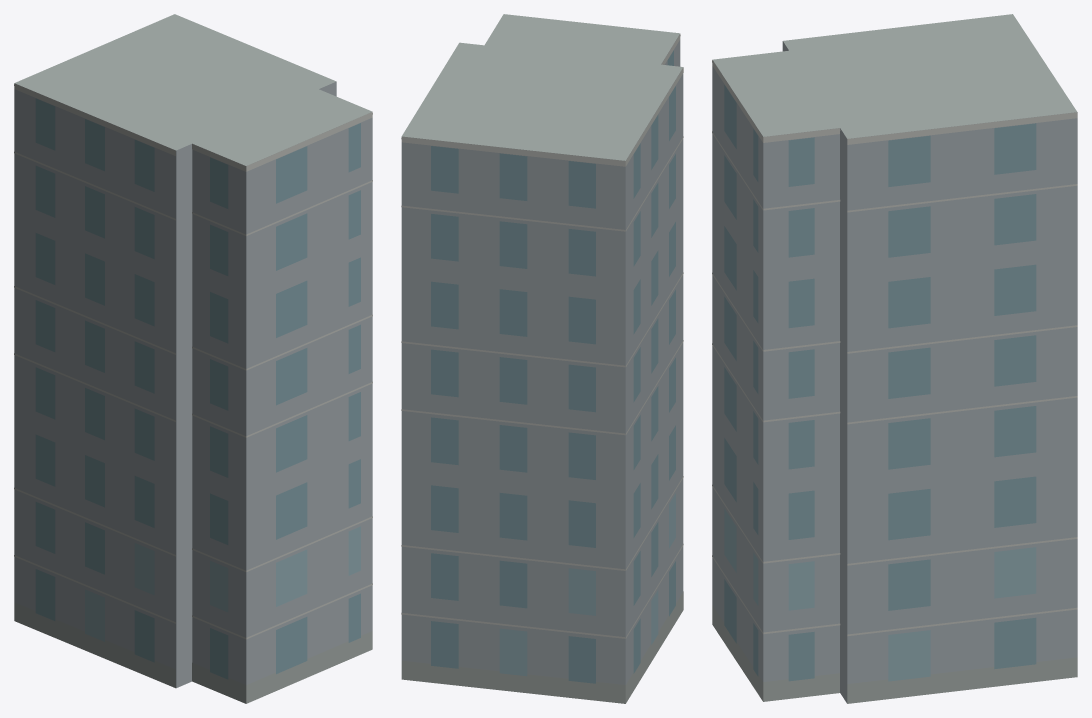
Rendered from survey-upis-32677690.glb.
3 renders of one model, left to right at view 1: azimuth 30°, elevation 25°; view 2: azimuth 150°, elevation 25°; view 3: azimuth 270°, elevation 25°, orthographic. The views are drawn at different scales.
Parts seen in each view (by area): view 1: survey-upis-32677690.tmp; view 2: survey-upis-32677690.tmp; view 3: survey-upis-32677690.tmp.
Part boxes in pixels (box(x1,y1,x2,y2)): survey-upis-32677690.tmp: box(14, 14, 372, 703); survey-upis-32677690.tmp: box(401, 14, 683, 703); survey-upis-32677690.tmp: box(712, 14, 1077, 703).
Bounding box in the file's own units: 10.69 × 22.5 × 13.2.
